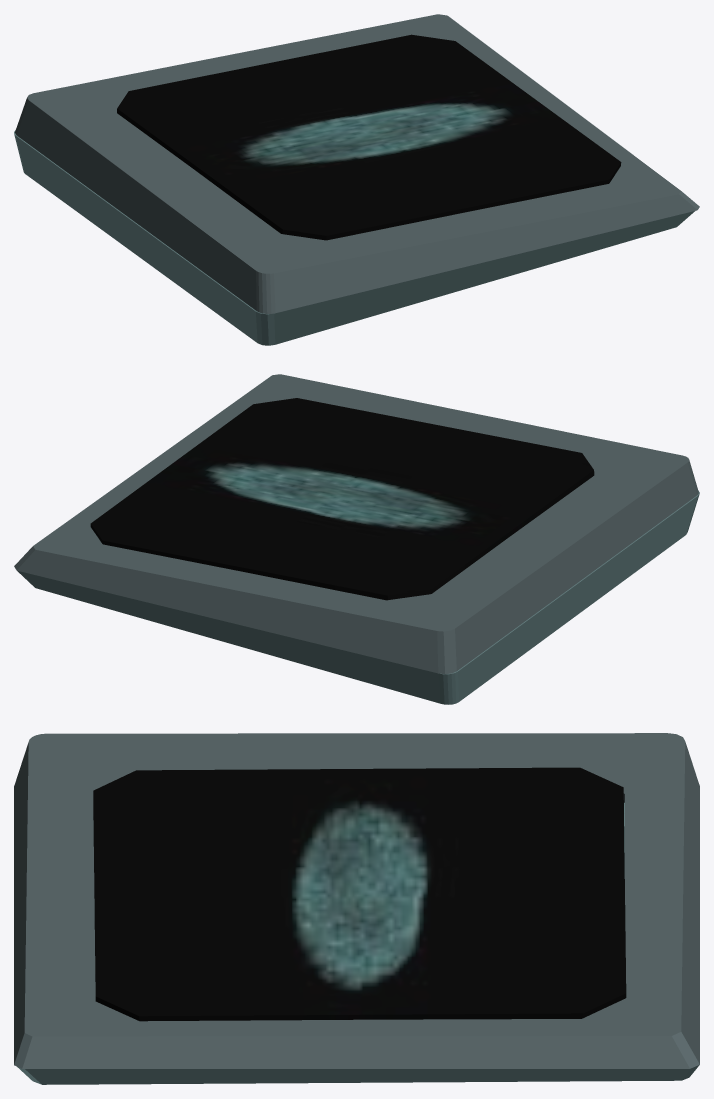
The model's file is fingerprint.glb.
3 views of the same model, one above another, from view 1: azimuth 30°, elevation 25°; view 2: azimuth 150°, elevation 25°; view 3: azimuth 270°, elevation 25° (orthographic). The views are drawn at different scales.
Parts seen in each view (by area): view 1: fingerprint; view 2: fingerprint; view 3: fingerprint.
Boxes of the visible parts, x1=… form: fingerprint: x1=14, y1=14, x2=699, y2=345; fingerprint: x1=14, y1=374, x2=699, y2=704; fingerprint: x1=14, y1=733, x2=699, y2=1084.
Bounding box in the file's own units: 0.45 × 0.0746 × 0.4489.
3 materials, 1 textured.
